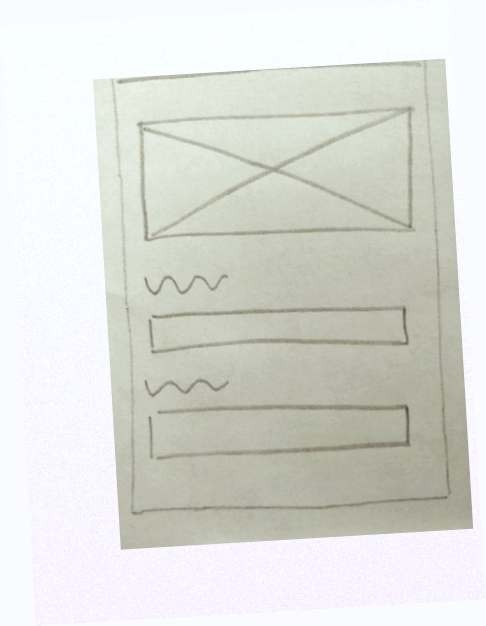image: (131, 100, 425, 251)
text: (138, 264, 232, 302), (141, 364, 235, 402)
text_input: (142, 392, 414, 467), (144, 296, 416, 365)
